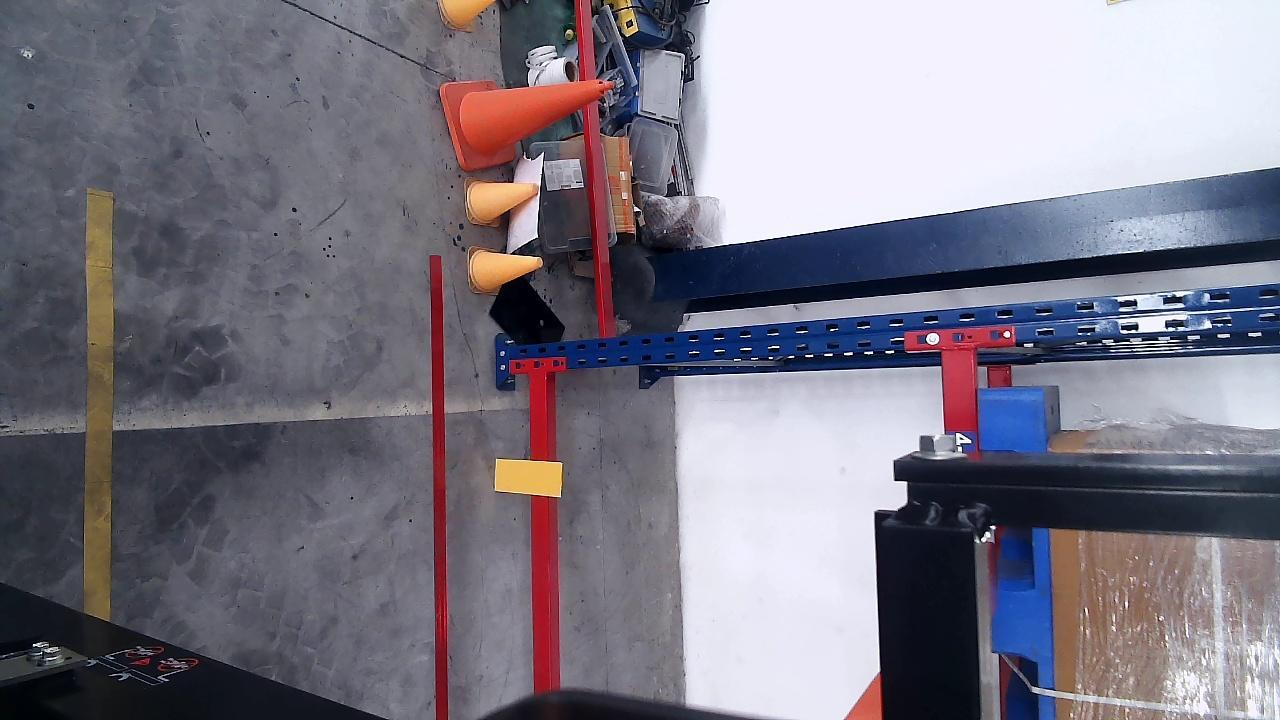h_rack: (527, 371, 557, 689)
orange_strip: (493, 459, 562, 495)
red_line: (429, 254, 452, 719)
small_pallet: (980, 394, 1047, 719)
yellow_line: (86, 189, 116, 620)
